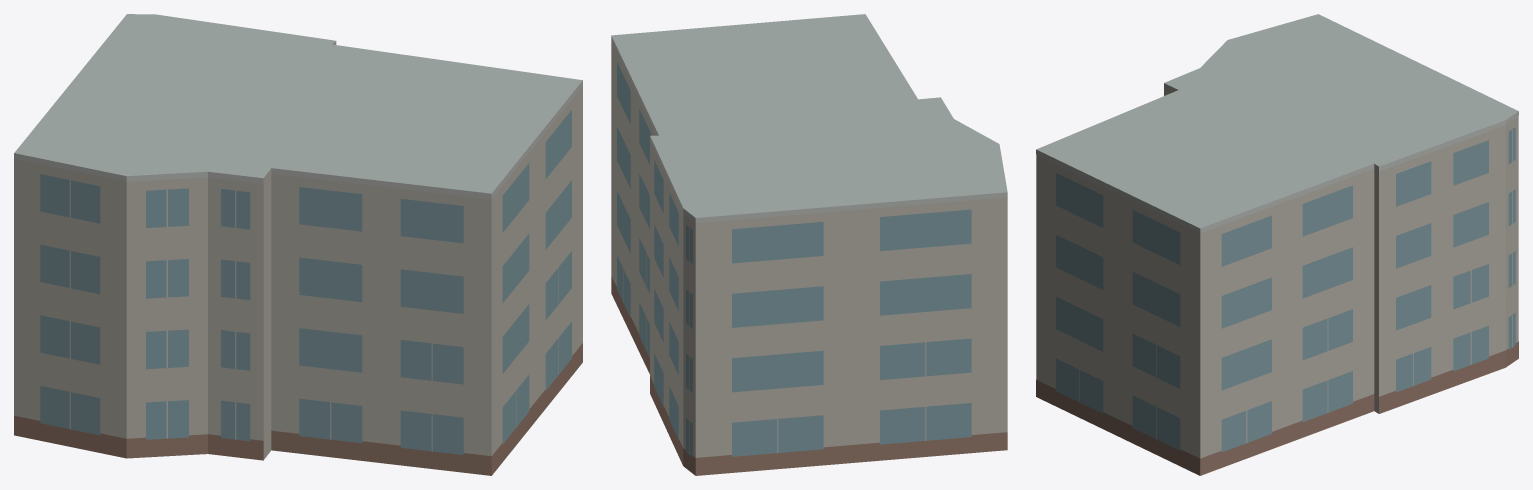
File: survey-upis-32914499.glb
3 renders of one model, left to right at view 1: azimuth 30°, elevation 25°; view 2: azimuth 150°, elevation 25°; view 3: azimuth 270°, elevation 25°, orthographic. The views are drawn at different scales.
Parts seen in each view (by area): view 1: survey-upis-32914499.tmp; view 2: survey-upis-32914499.tmp; view 3: survey-upis-32914499.tmp.
Part boxes in pixels (bbox=[...]): survey-upis-32914499.tmp: bbox=[14, 14, 582, 475]; survey-upis-32914499.tmp: bbox=[611, 14, 1007, 475]; survey-upis-32914499.tmp: bbox=[1036, 14, 1518, 475].
Bounding box in the file's own units: 22.68 × 12.2 × 21.57.
